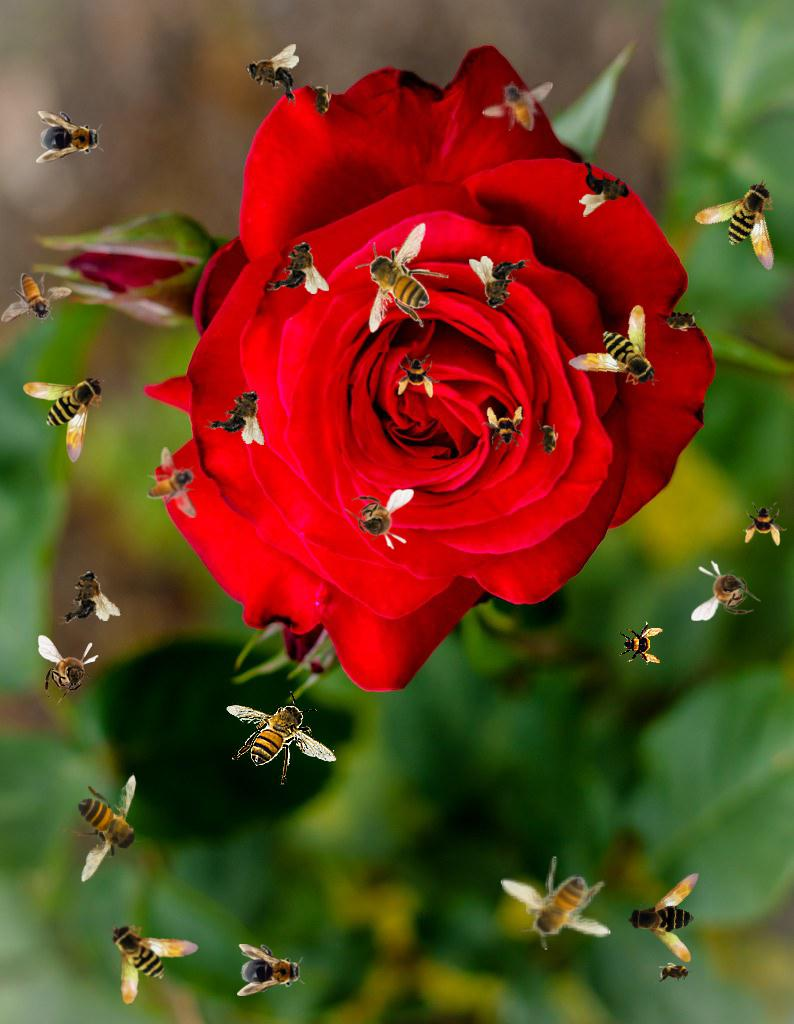Bee: (619, 852, 739, 972), (690, 176, 794, 290), (226, 691, 337, 785), (500, 856, 611, 950), (57, 773, 151, 884), (355, 222, 449, 333), (562, 303, 660, 395), (108, 916, 204, 1006), (23, 375, 105, 463), (203, 379, 278, 449), (51, 565, 122, 629), (38, 635, 99, 705), (344, 489, 414, 550), (691, 560, 761, 621), (147, 447, 197, 518), (1, 273, 72, 323), (482, 81, 553, 131), (36, 111, 104, 163), (237, 944, 305, 996), (267, 241, 329, 294), (469, 256, 531, 309), (579, 155, 632, 217), (246, 44, 299, 106), (479, 402, 529, 452), (396, 354, 440, 398), (743, 502, 787, 546), (619, 621, 663, 665), (310, 81, 332, 121), (537, 420, 559, 460), (660, 310, 700, 332), (655, 962, 695, 984)
